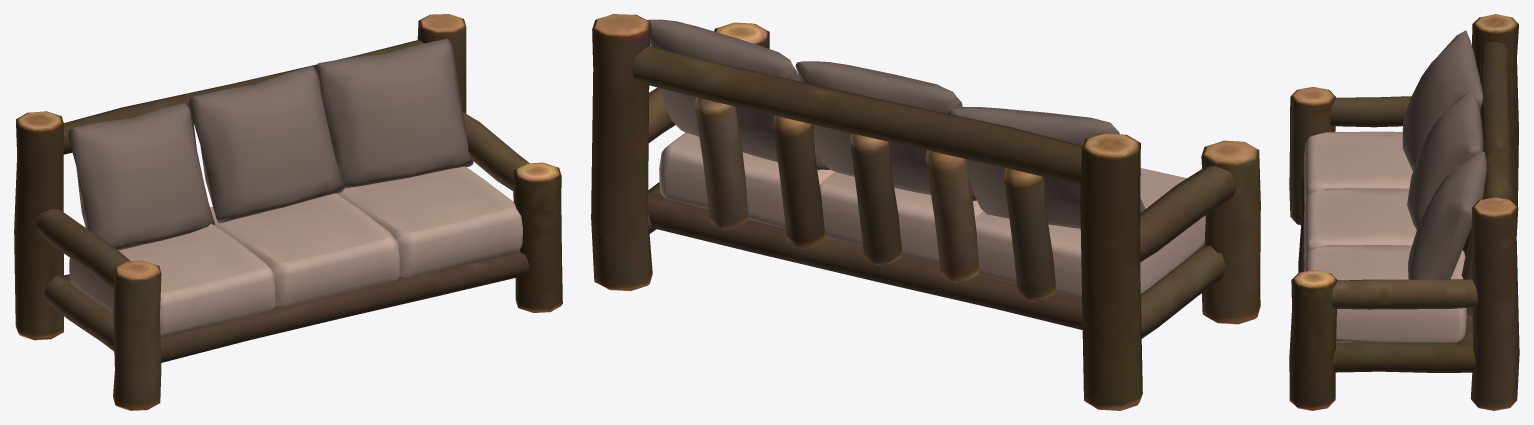
File: log-bench.glb
The picture shows the model from 3 angles, left to right: view 1: azimuth 30°, elevation 25°; view 2: azimuth 150°, elevation 25°; view 3: azimuth 270°, elevation 25°; orthographic projection. The views are drawn at different scales.
Bounding box in the file's own units: 19.9 × 8.96 × 9.5.
2 materials, 2 textured.
